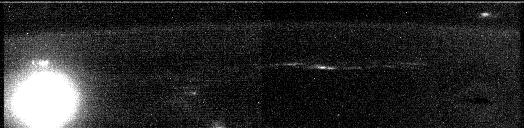positive: (28, 57, 51, 71)
